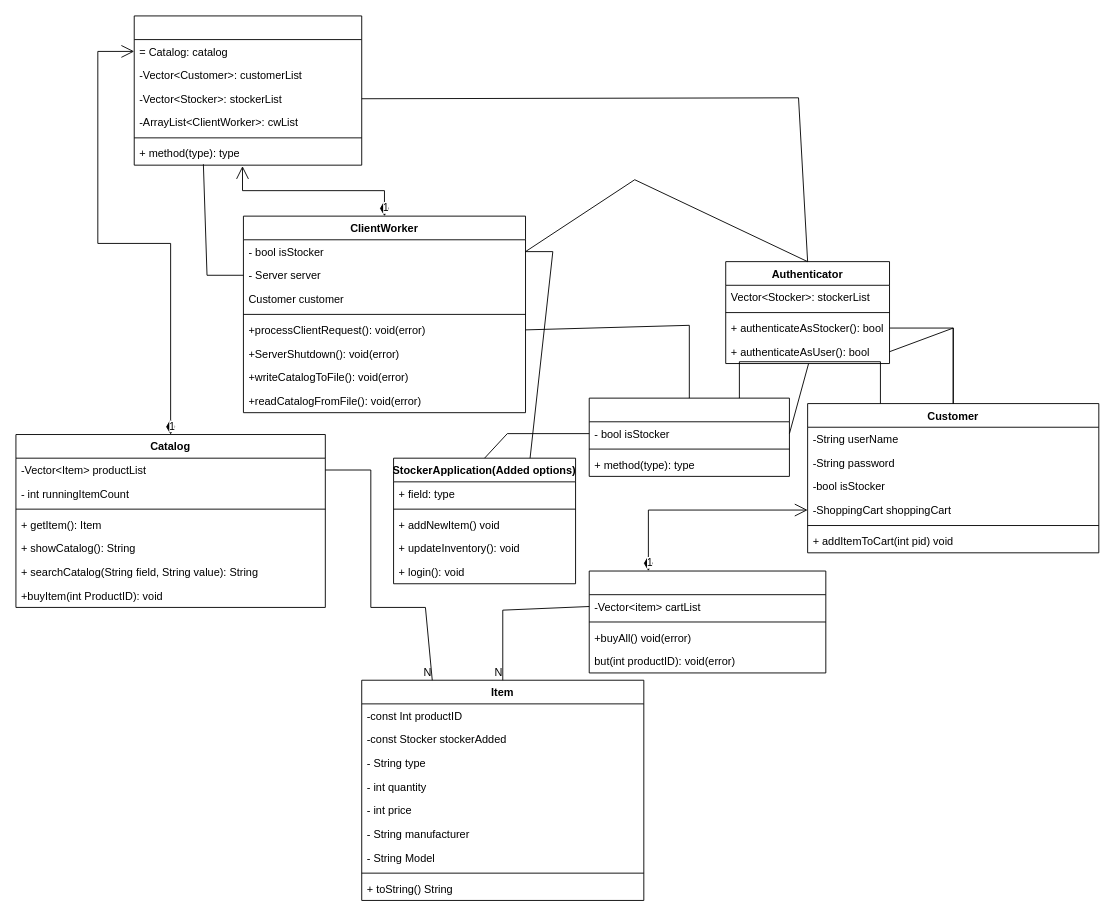
Image size: 1115x919. Some labels were removed from this diagram. The box of each missing label's shape, as (x1, y1, x2, y2) in pixels:
CustomerApplication(Display): (588, 397, 789, 476)
Server: (133, 15, 362, 165)
ShoppingCart: (588, 570, 826, 673)
